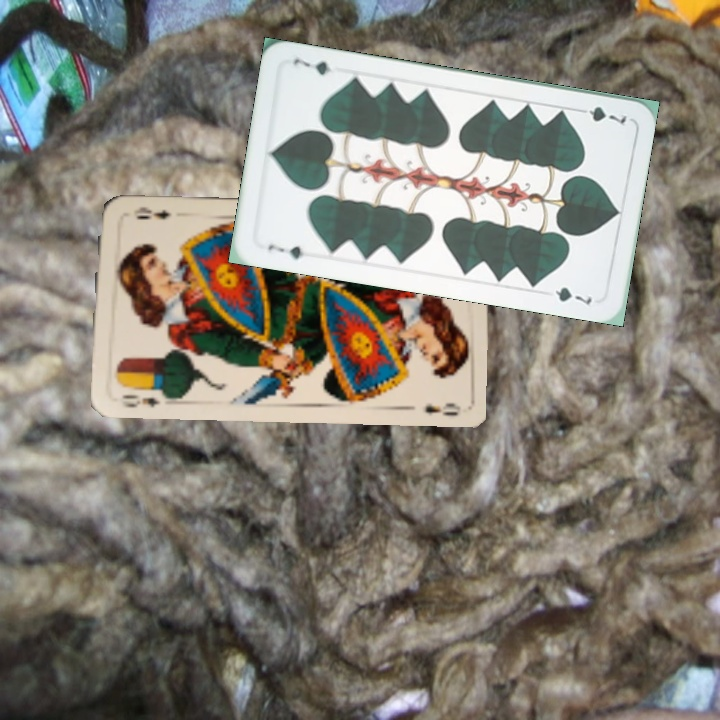EO: (118, 390, 163, 410)
G7: (571, 102, 629, 127), (263, 240, 306, 262)
